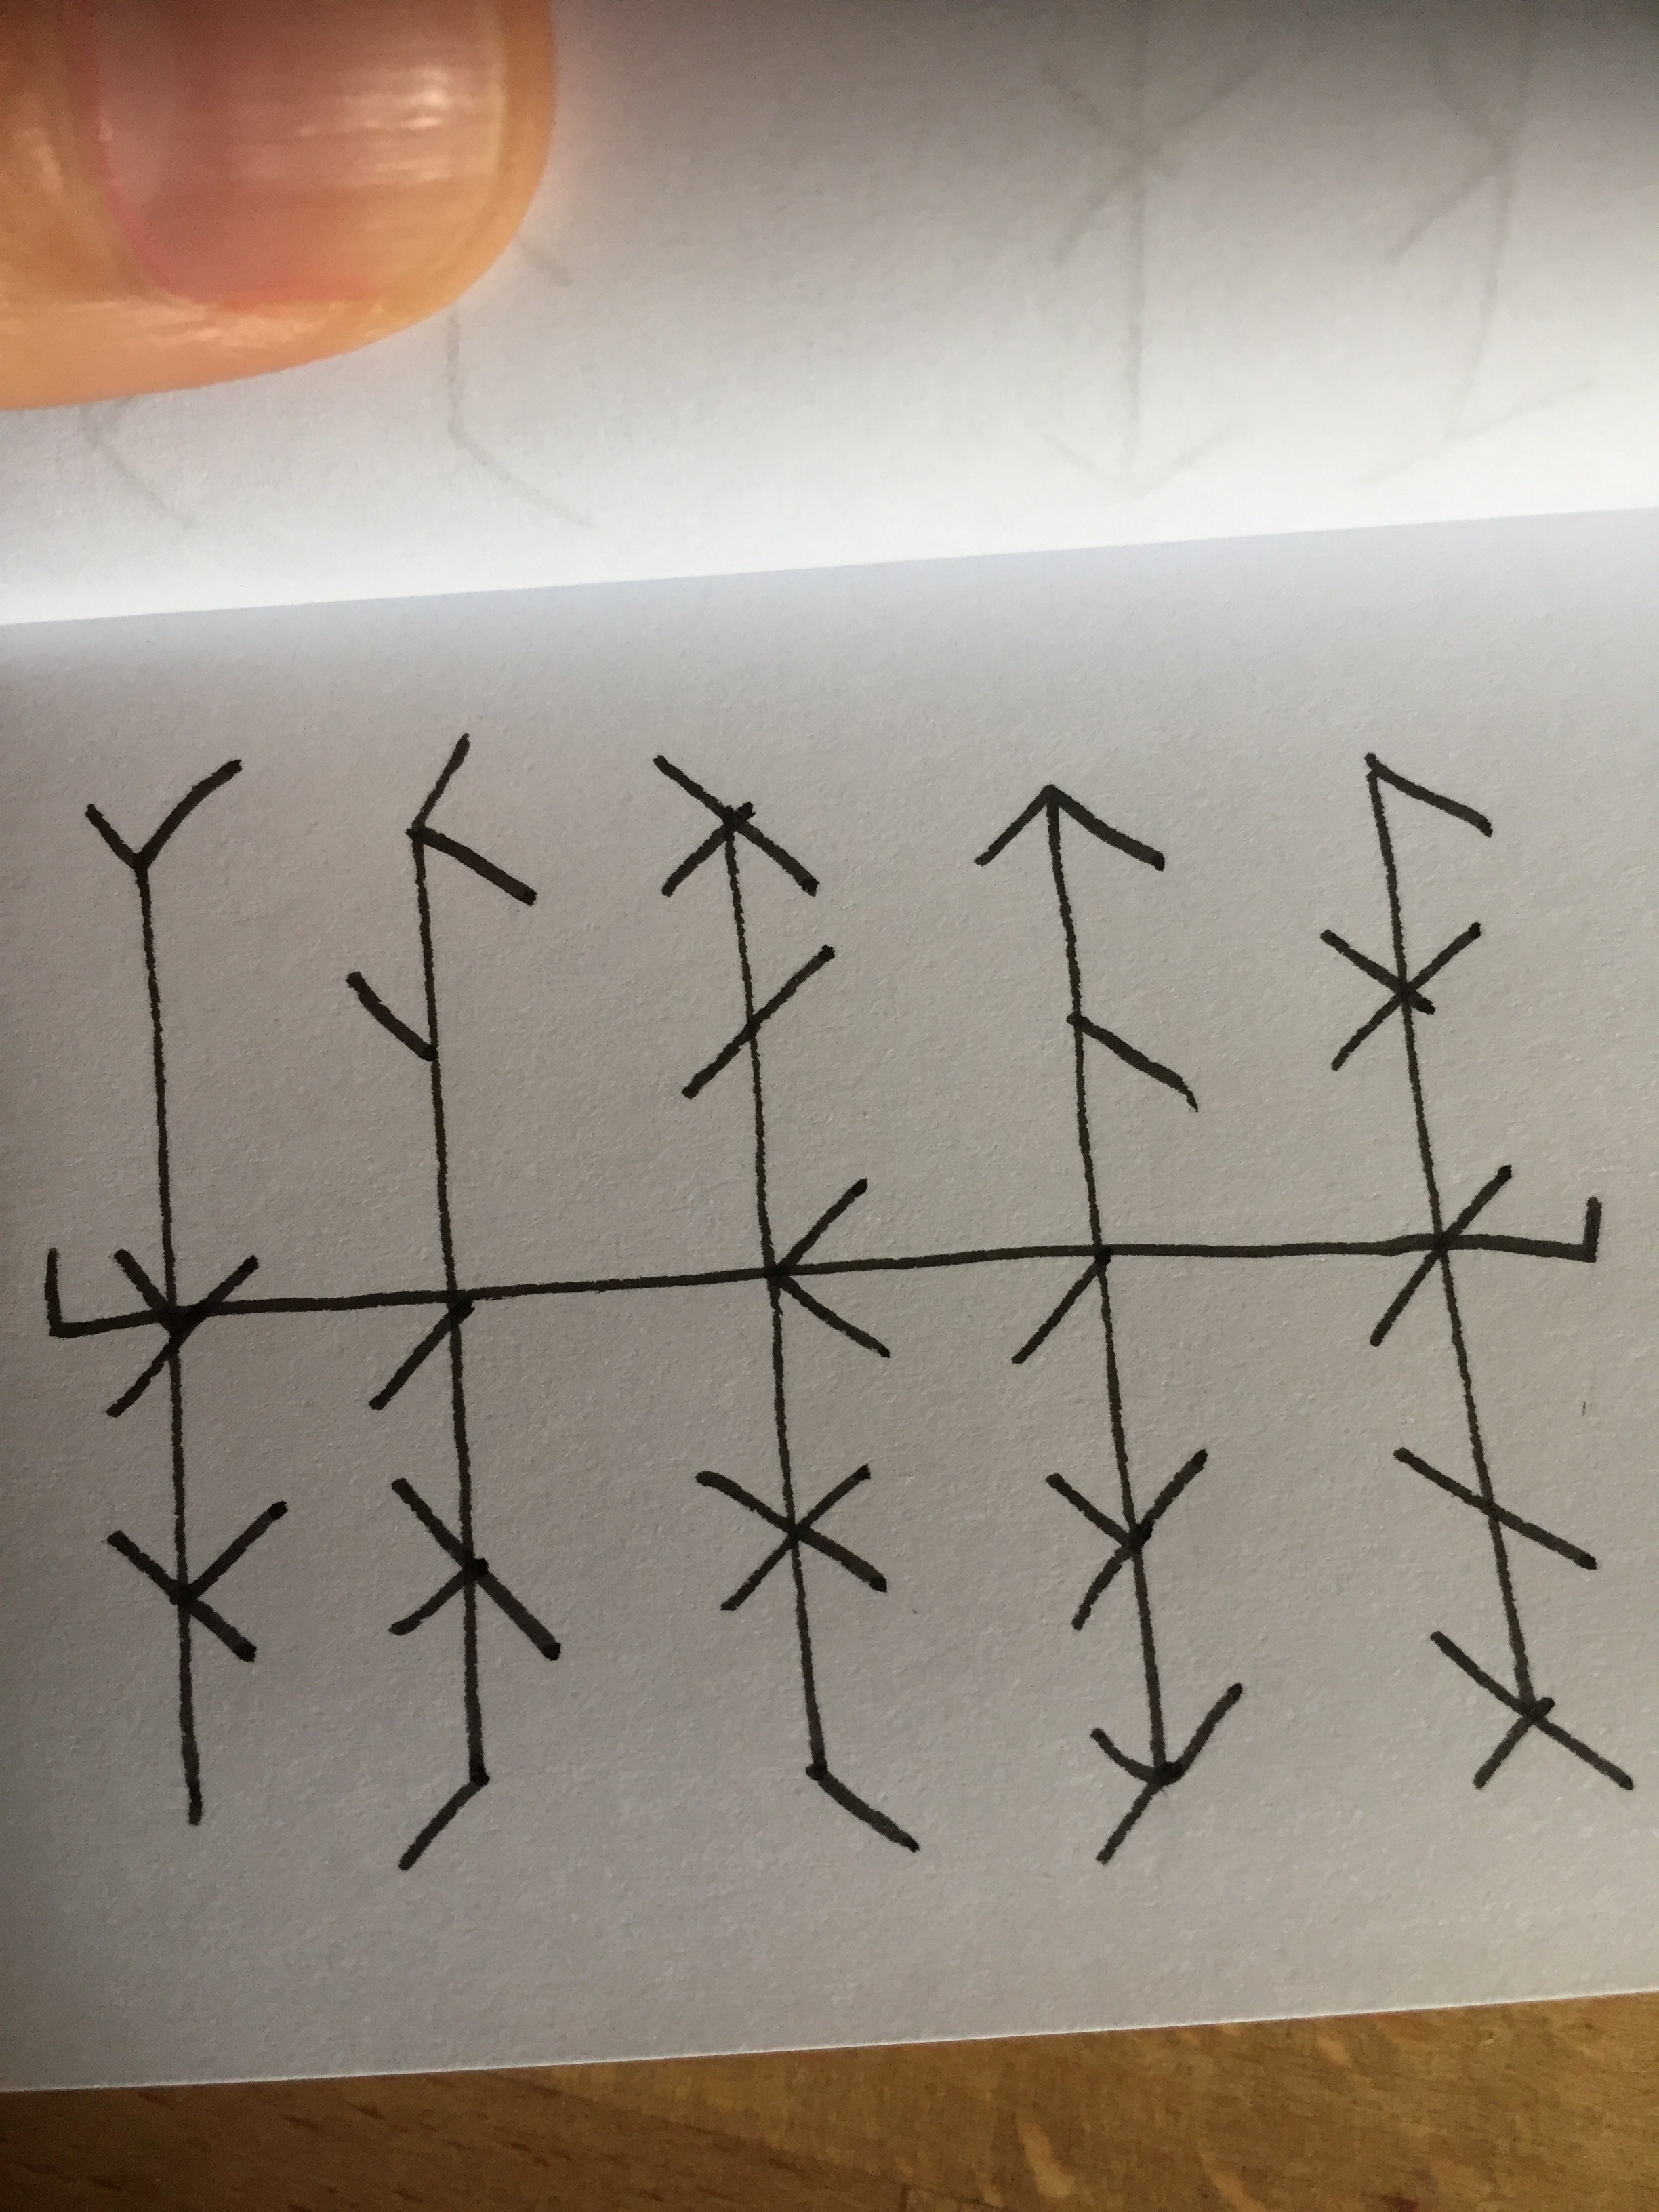Bar: (1321, 754, 1631, 1792), (650, 752, 920, 1857), (974, 786, 1244, 1865), (345, 733, 561, 1874), (85, 761, 289, 1831)
Barcode: (42, 733, 1631, 1874)
End: (1495, 1195, 1603, 1264)
Start: (40, 1249, 115, 1343)
